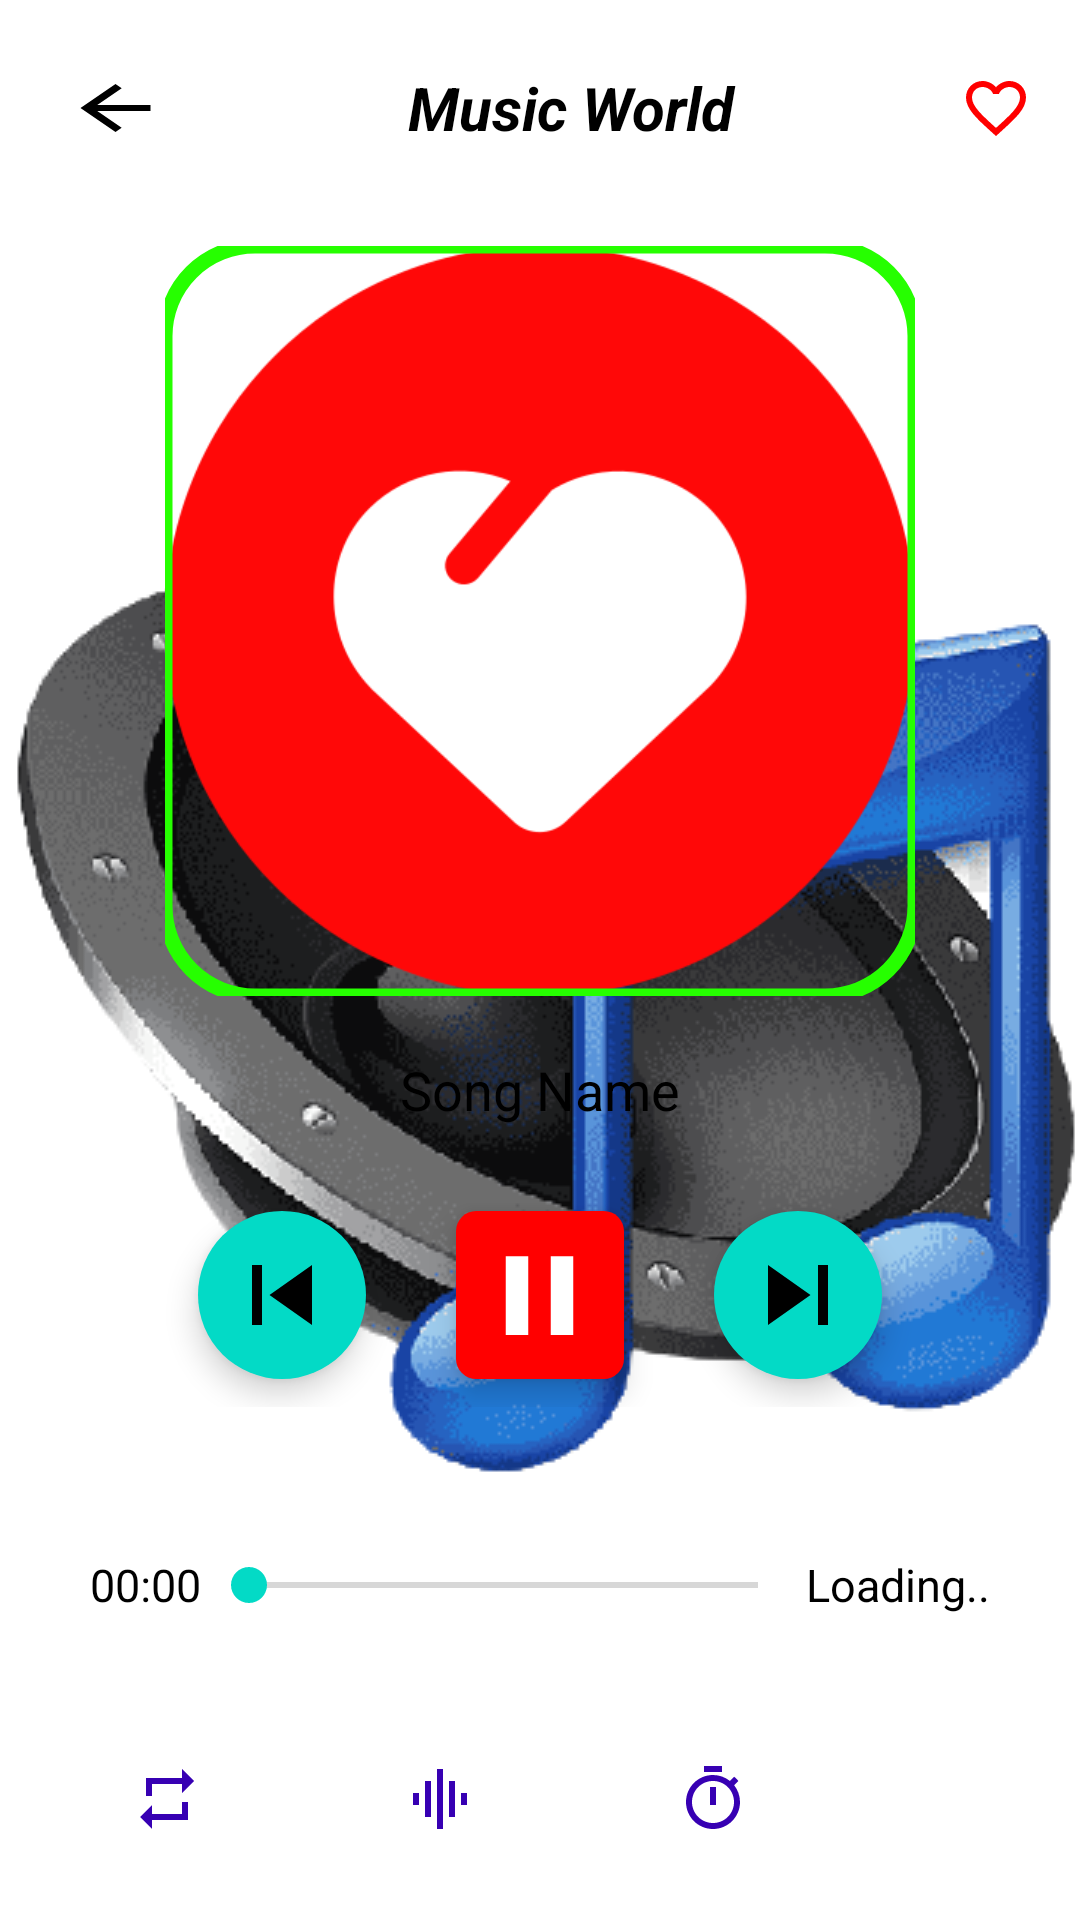

Icons on this 1080w x 1920h Android screen, each with the point to tap as (x=x, y=y):
Back: (x=116, y=108)
Equalizer: (x=440, y=1799)
Favourites: (x=996, y=108)
pause: (x=540, y=1295)
Repeate: (x=167, y=1799)
skip next: (x=798, y=1295)
skip previous: (x=282, y=1295)
Timer: (x=713, y=1797)
